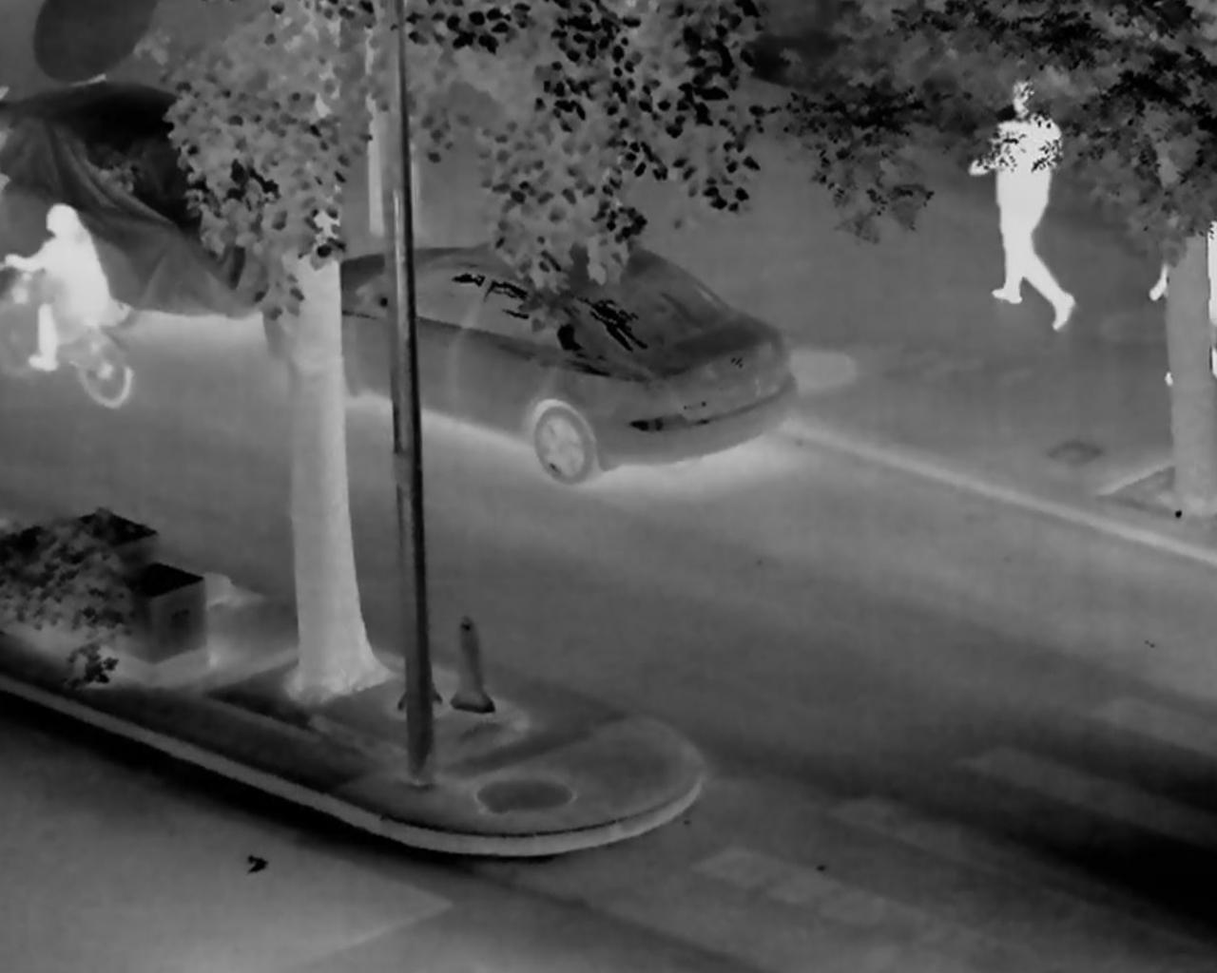person: (969, 81, 1075, 331), (5, 201, 108, 375)
